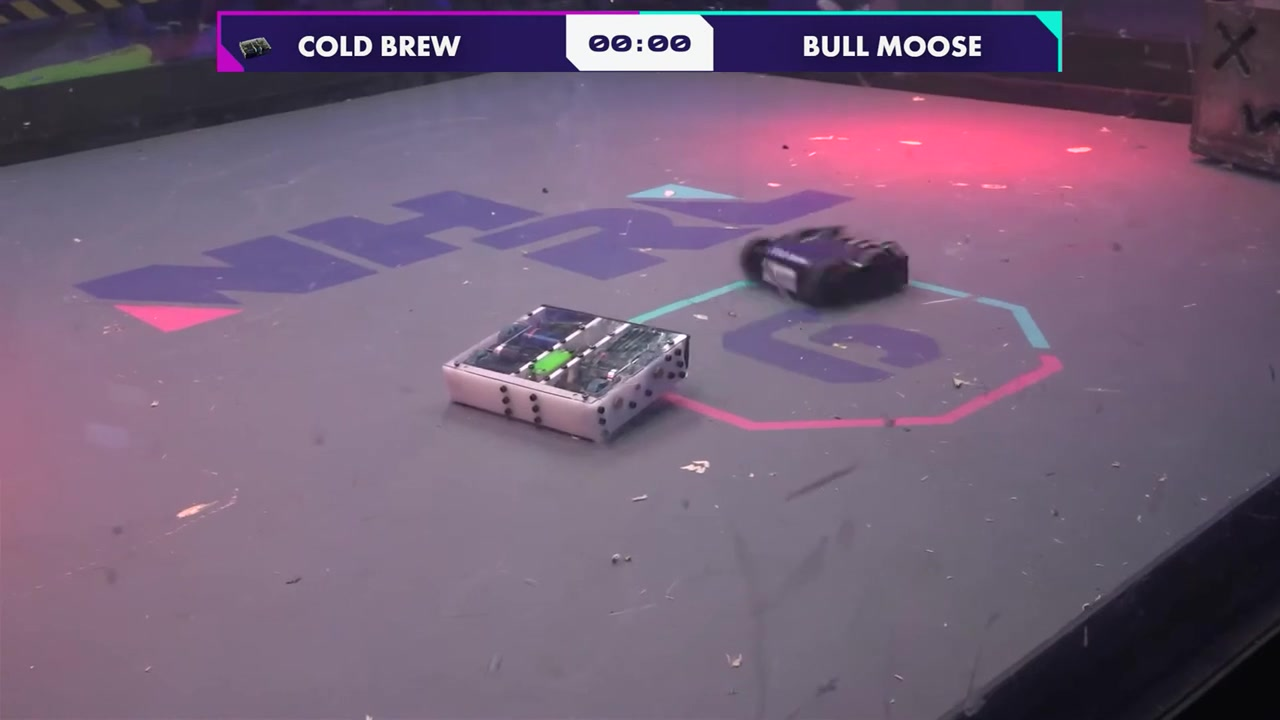combatbot: (444, 305, 690, 448), (736, 221, 912, 311)
housebot: (1189, 6, 1280, 186)
